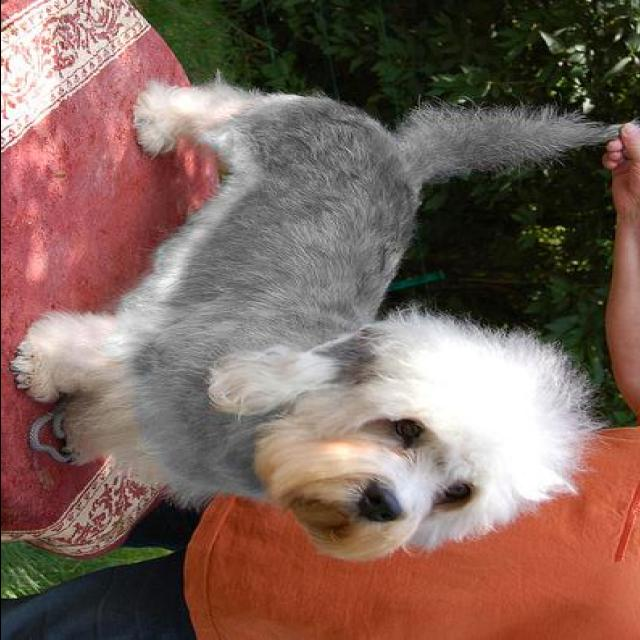dandie_dinmont: (9, 83, 620, 561)
